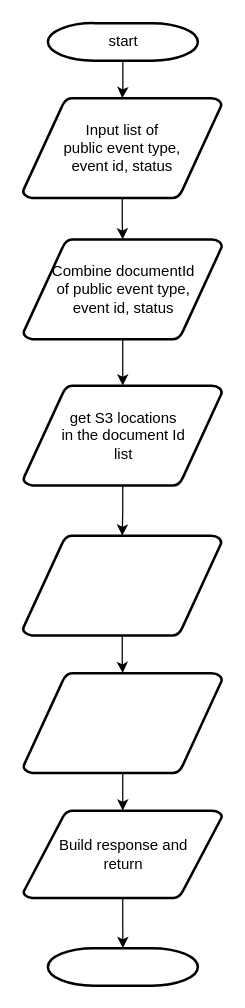
Image size: 245x1008. Some labels were removed from this diagram. The shapes that lost their labels are listed below. From the top down, each one's box as (x1, y1, x2, y2) in pixels, then its label:
(21, 534, 222, 636): Retrieve CEIs from S3 by S3 locations
(22, 671, 223, 774): Covert CEI to response items
(46, 946, 198, 986): end
